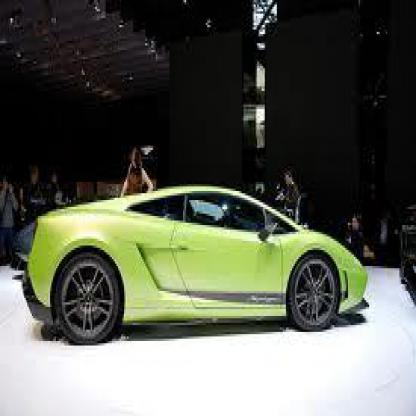Vehicle: (6, 182, 374, 354)
